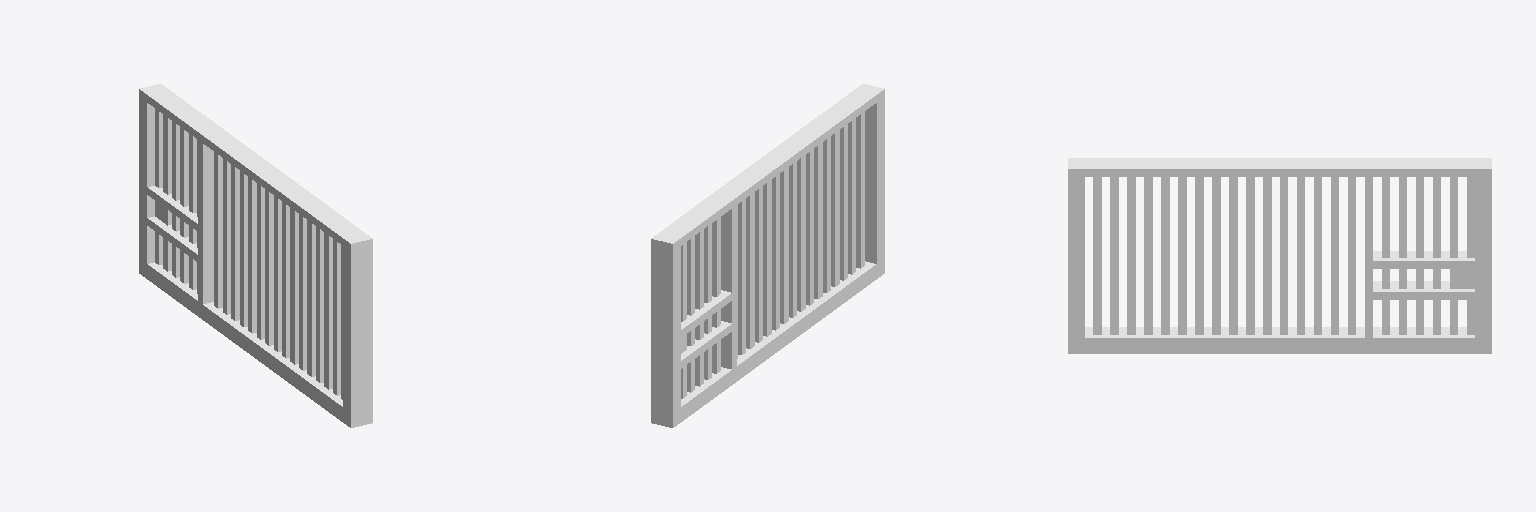
File: Cell_Block_Menu_front_wall.obj
3 views of the same model, side by side, from view 1: azimuth 30°, elevation 25°; view 2: azimuth 150°, elevation 25°; view 3: azimuth 270°, elevation 25° (orthographic).
Size of the model in its own units: 3 by 24 by 50.